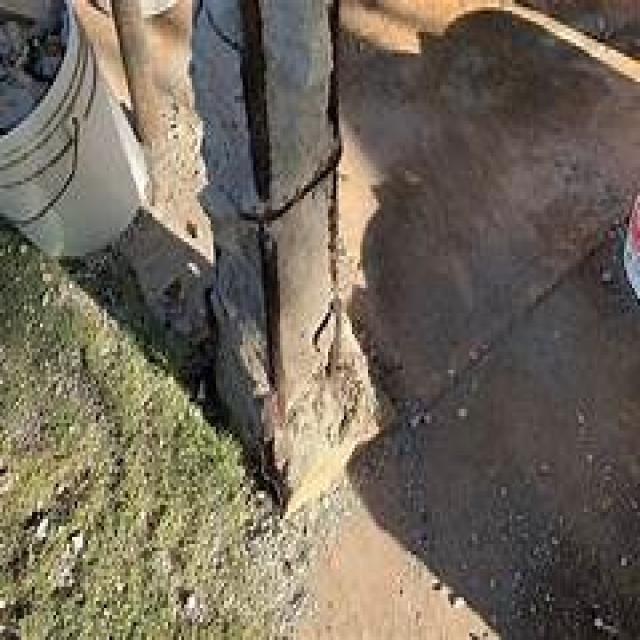stain_mould: (239, 1, 281, 390)
